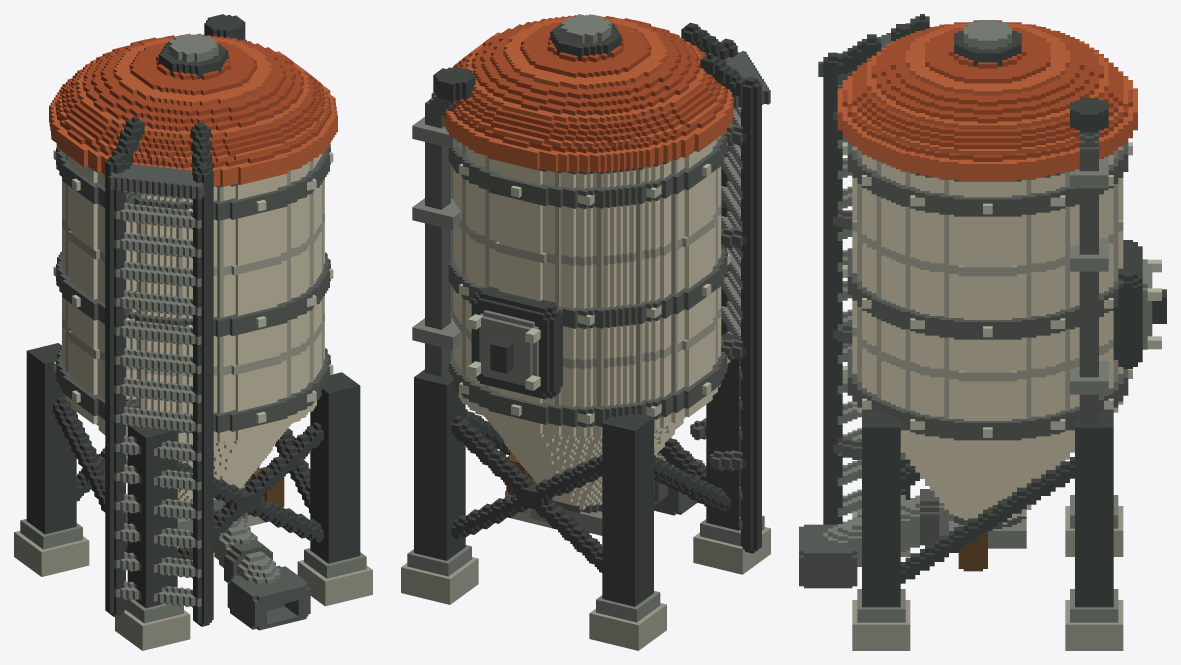
File: silo.glb
3 views of the same model, side by side, from view 1: azimuth 30°, elevation 25°; view 2: azimuth 150°, elevation 25°; view 3: azimuth 270°, elevation 25° (orthographic). The views are drawn at different scales.
Visible parts, largest first — view 1: silo; view 2: silo; view 3: silo.
Part boxes in pixels (x1,y1,x2,y2): silo: (14,14,372,650); silo: (401,14,770,650); silo: (799,14,1166,650).
Bounding box in the file's own units: 3.52 × 7.04 × 4.18.
